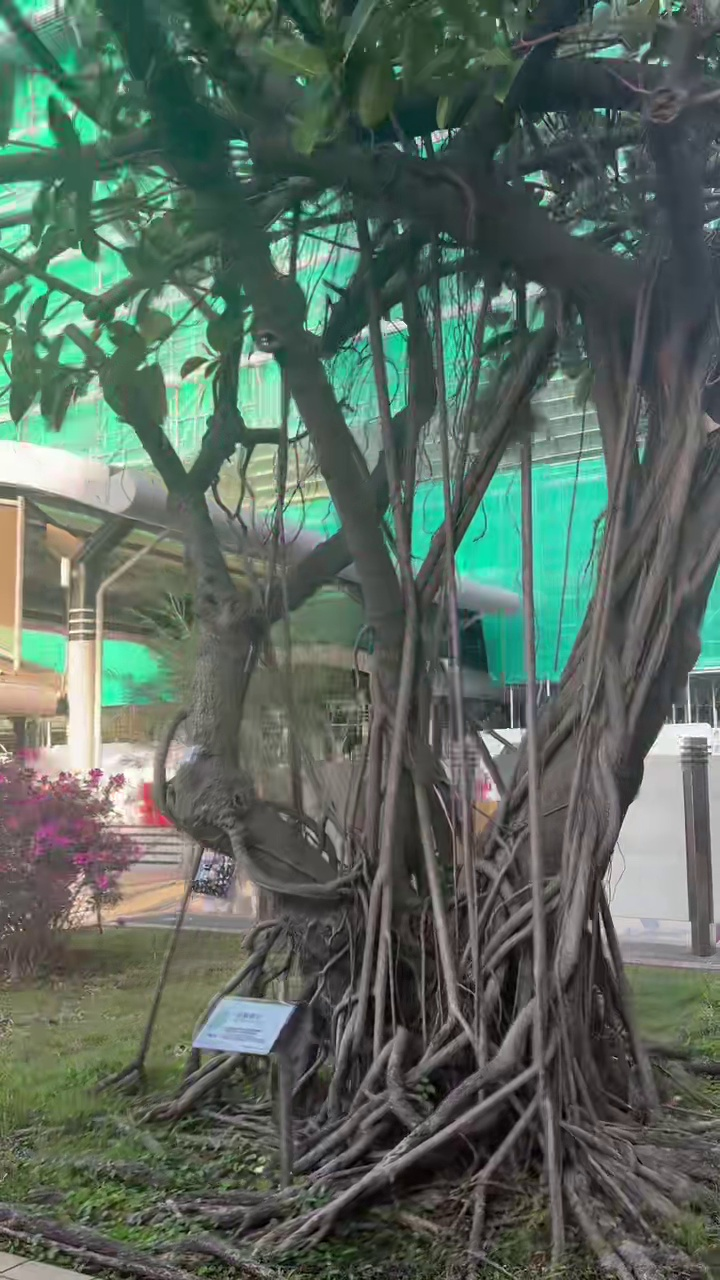Ficus elastica: (7, 0, 719, 1279)
